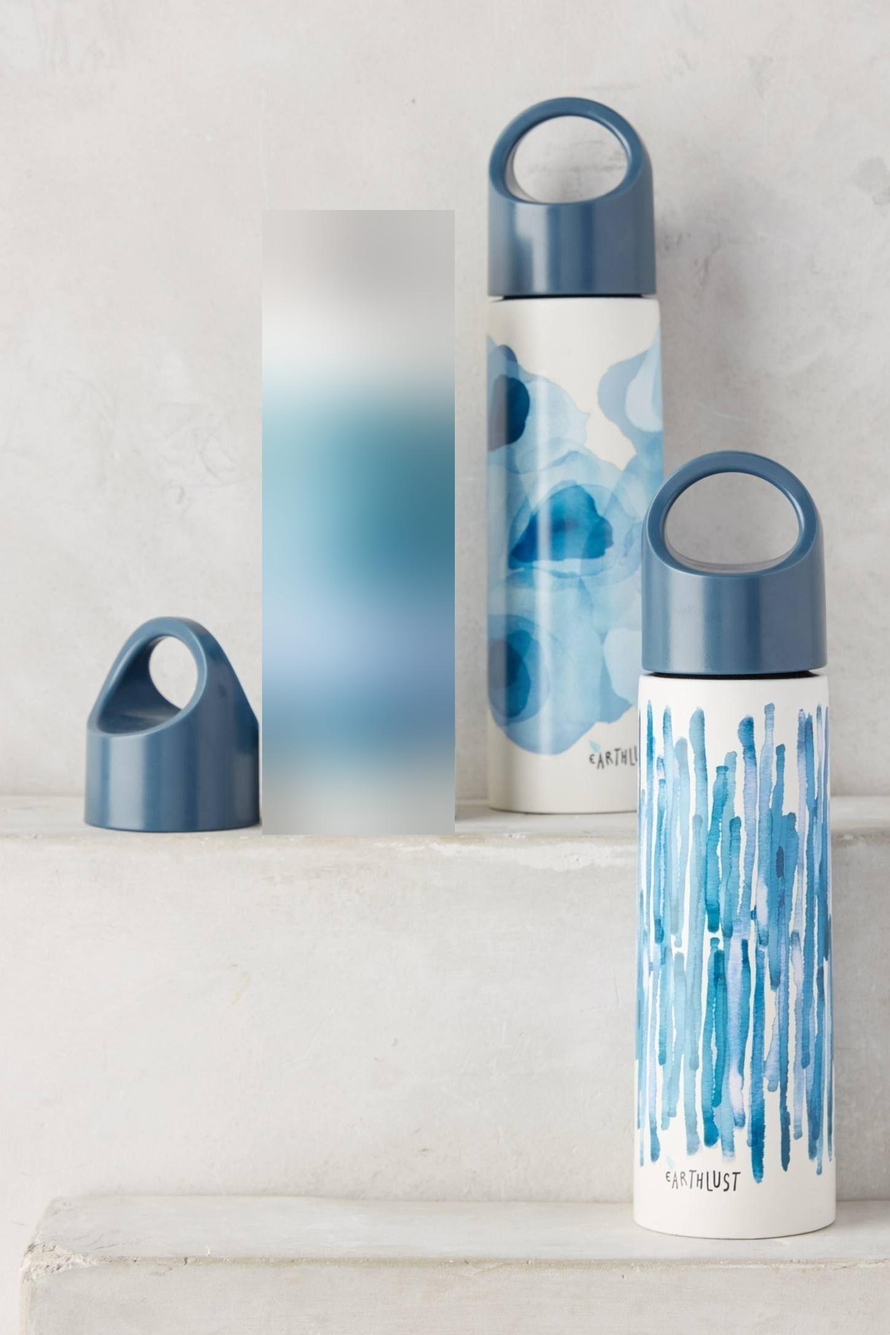gym bottle: (637, 443, 837, 1240), (479, 101, 668, 821)
